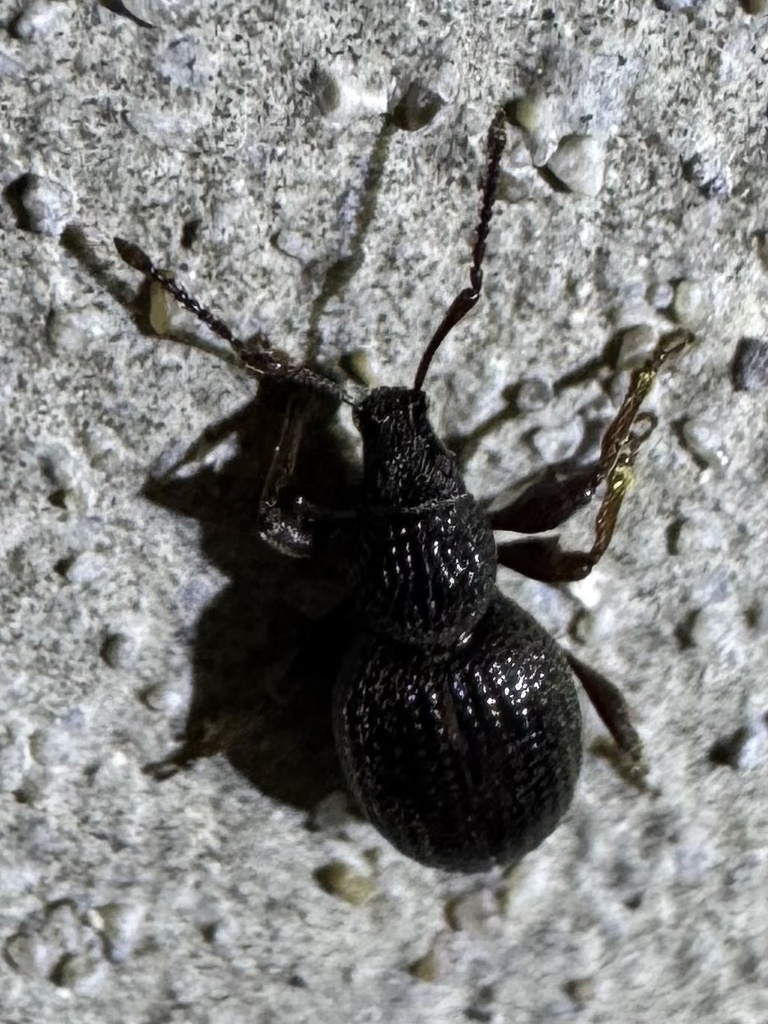weevils: (0, 25, 768, 875)
